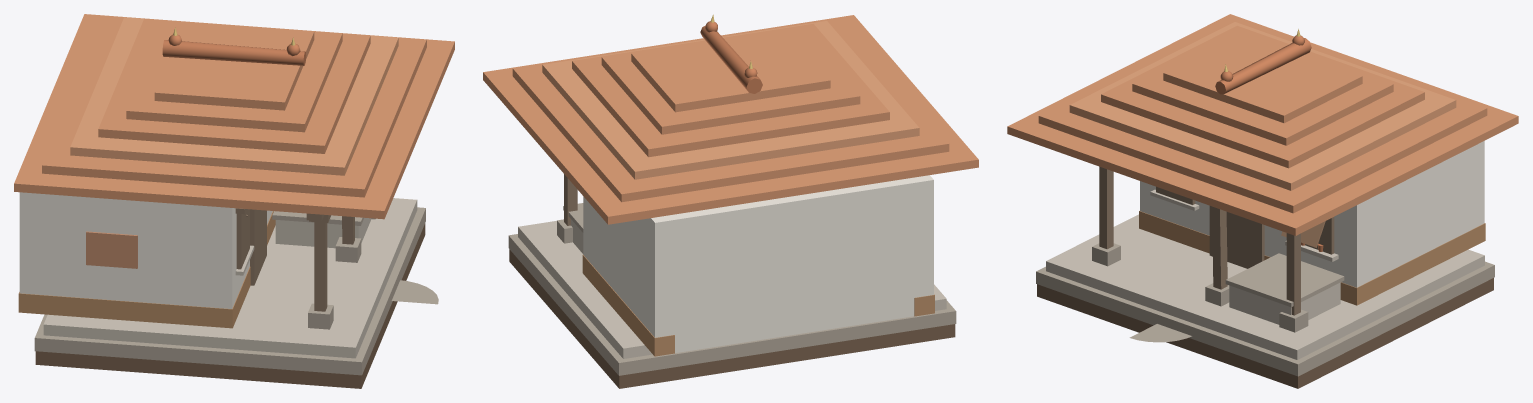
File: south_indian_village_old_man_house.glb
The picture shows the model from 3 angles, left to right: view 1: azimuth 30°, elevation 25°; view 2: azimuth 150°, elevation 25°; view 3: azimuth 270°, elevation 25°; orthographic projection. The views are drawn at different scales.
Parts seen in each view (by area): view 1: House_Terracotta_Roof, Plinth_Granite_Base, House_Enclosed_Walls, House_Foundation_Skirt, House_Veranda_Stoop, House_Door_And_Windows, Veranda_Post_1, Veranda_Post_2; view 2: House_Terracotta_Roof, House_Enclosed_Walls, Plinth_Granite_Base, House_Foundation_Skirt, Veranda_Post_3, House_Veranda_Stoop; view 3: House_Terracotta_Roof, Plinth_Granite_Base, House_Enclosed_Walls, House_Foundation_Skirt, House_Veranda_Stoop, House_Door_And_Windows, Veranda_Post_1, Veranda_Post_3, Veranda_Post_2.
Boxes of the visible parts, x1,y1,x2,y2 form: House_Terracotta_Roof: (14, 14, 454, 219); Plinth_Granite_Base: (34, 198, 438, 375); House_Enclosed_Walls: (18, 192, 275, 328); House_Foundation_Skirt: (35, 223, 425, 388); House_Veranda_Stoop: (246, 211, 371, 248); House_Door_And_Windows: (235, 208, 266, 285); Veranda_Post_1: (308, 215, 333, 329); Veranda_Post_2: (335, 216, 361, 262); House_Terracotta_Roof: (483, 15, 978, 224); House_Enclosed_Walls: (582, 175, 934, 356); Plinth_Granite_Base: (508, 220, 956, 375); House_Foundation_Skirt: (509, 249, 955, 388); Veranda_Post_3: (557, 174, 577, 243); House_Veranda_Stoop: (563, 203, 583, 253); House_Terracotta_Roof: (1007, 14, 1518, 235); Plinth_Granite_Base: (1036, 214, 1494, 376); House_Enclosed_Walls: (1139, 141, 1485, 305); House_Foundation_Skirt: (1037, 278, 1493, 388); House_Veranda_Stoop: (1225, 253, 1344, 324); House_Door_And_Windows: (1150, 186, 1338, 268); Veranda_Post_1: (1092, 166, 1120, 266); Veranda_Post_3: (1279, 233, 1308, 332); Veranda_Post_2: (1205, 206, 1229, 306).
Size of the model in its own units: 7.9 by 4.26 by 7.95.
